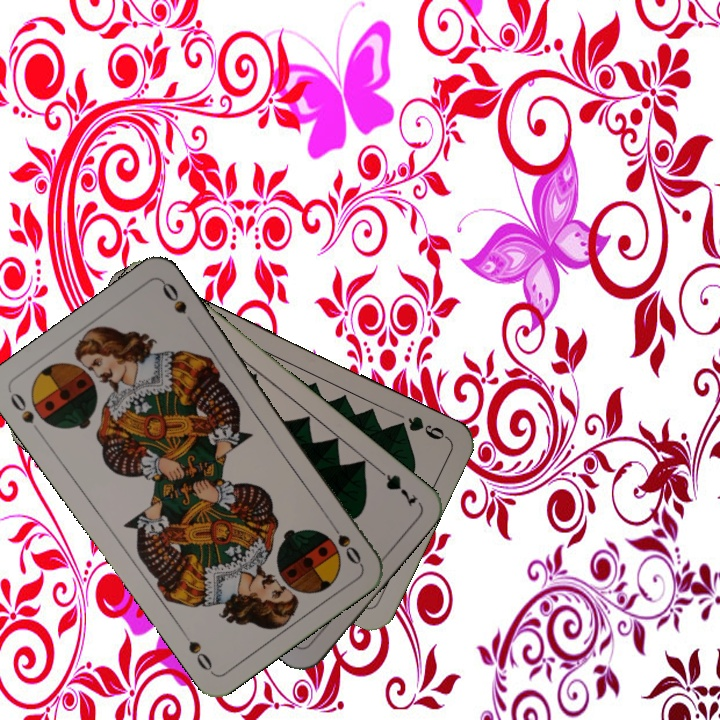G7: (371, 462, 421, 510)
G9: (391, 412, 450, 443)
SO: (324, 515, 364, 567), (6, 388, 46, 439)
